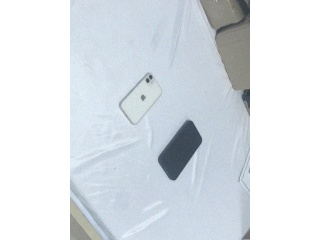phone: (157, 119, 203, 181), (118, 70, 165, 128)
